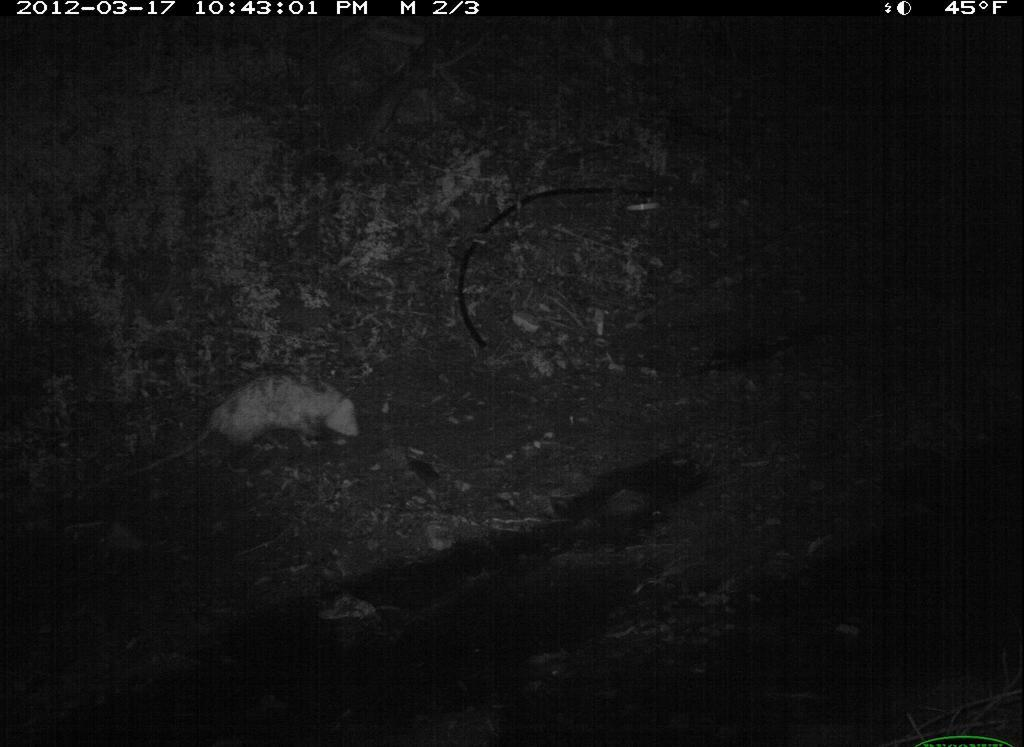opossum: (122, 368, 368, 488)
